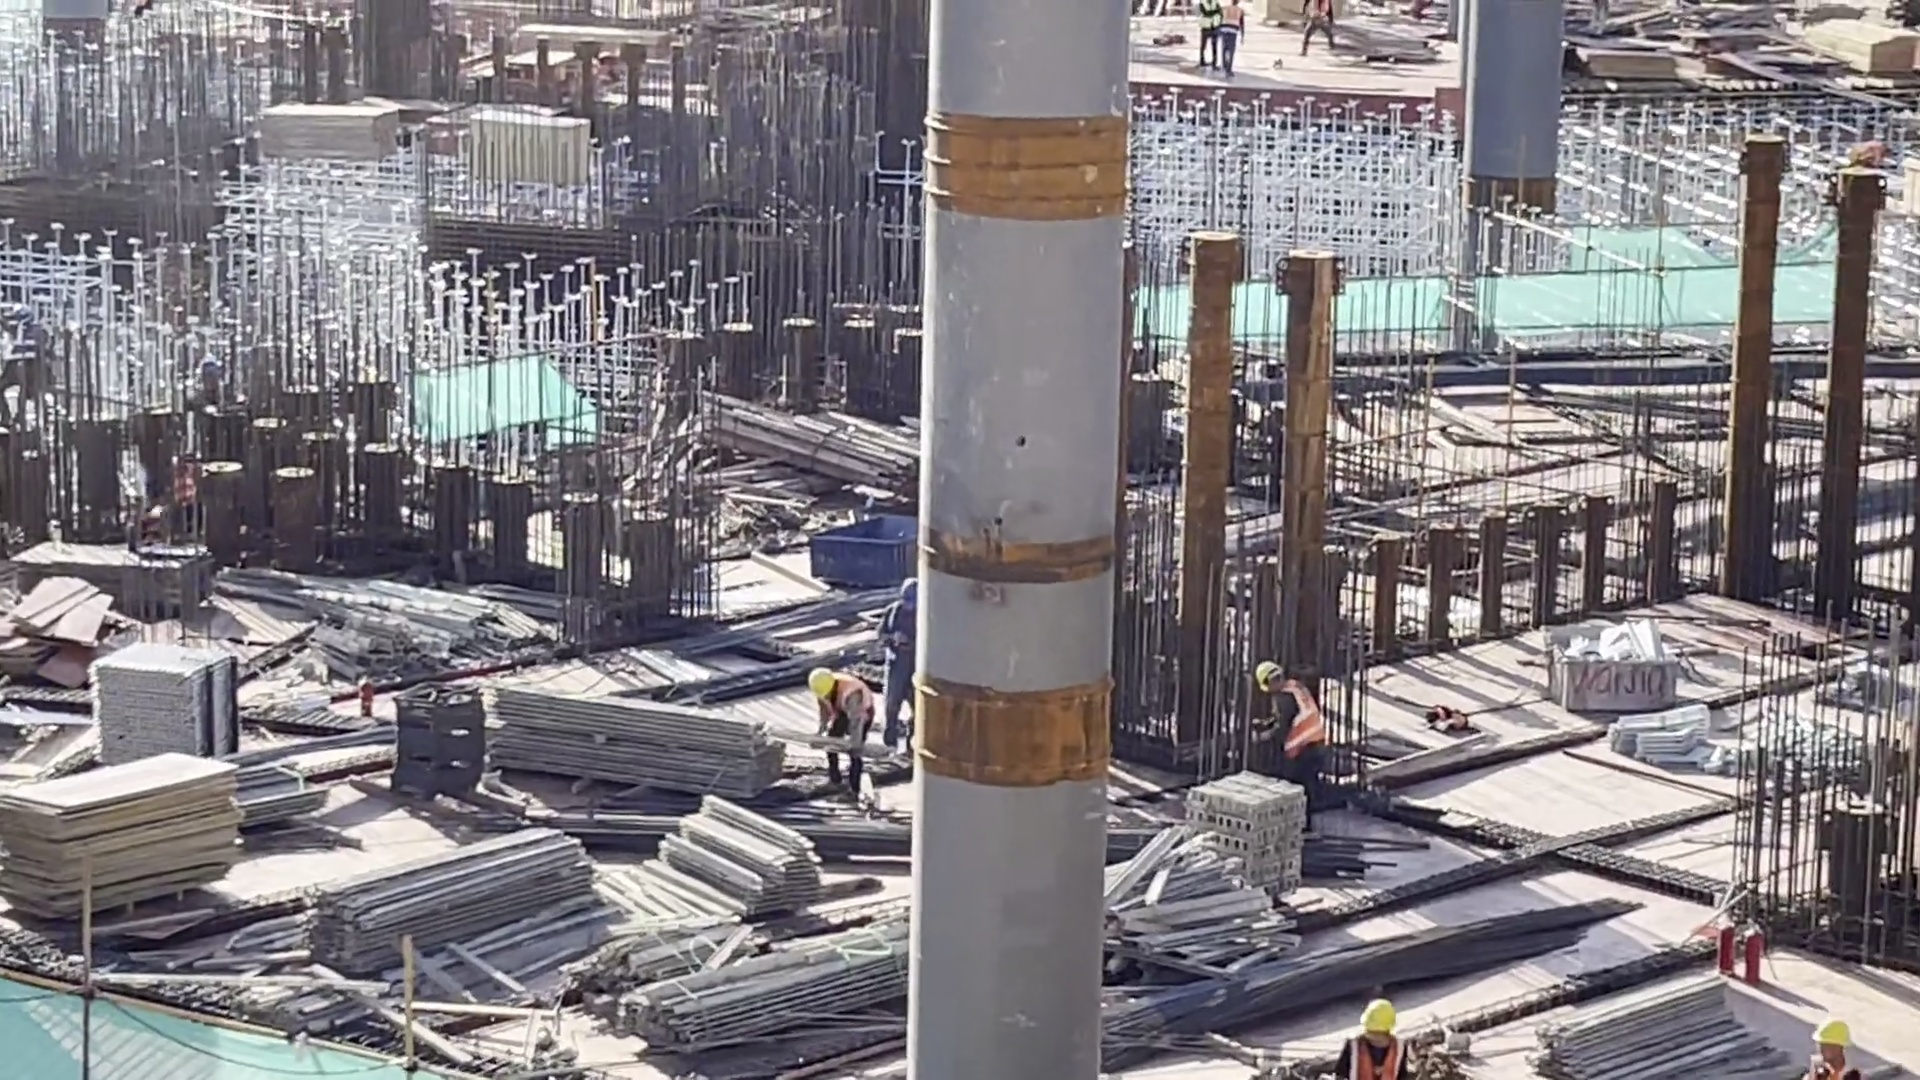board: (109, 727, 239, 901), (78, 532, 208, 627), (261, 101, 394, 176), (1553, 34, 1674, 81), (33, 557, 64, 659)
helmet: (1249, 661, 1297, 703), (893, 574, 937, 617), (1810, 1014, 1850, 1056), (1351, 999, 1403, 1031), (809, 660, 843, 706), (16, 304, 36, 319), (1839, 148, 1855, 161)
hopper: (1506, 619, 1676, 701), (801, 507, 933, 589)
person: (1261, 648, 1353, 813), (873, 568, 954, 746), (8, 286, 58, 441), (798, 656, 866, 763), (1323, 986, 1381, 1060), (1796, 1016, 1840, 1080), (1838, 134, 1896, 169), (1223, 1, 1243, 75), (1205, 1, 1226, 58), (1312, 1, 1334, 41)
rebar: (508, 766, 1423, 883), (1004, 880, 1638, 1046), (696, 585, 889, 653)
scaffold: (84, 639, 236, 794)
vest: (1351, 1031, 1428, 1080), (879, 609, 923, 684), (1271, 692, 1314, 761), (828, 667, 871, 727), (14, 324, 48, 377), (1859, 136, 1889, 164), (1798, 1067, 1854, 1079), (1225, 7, 1242, 37), (1199, 4, 1219, 28), (1303, 1, 1326, 18)
wood: (731, 394, 933, 482), (473, 101, 574, 189), (1831, 28, 1920, 72)
